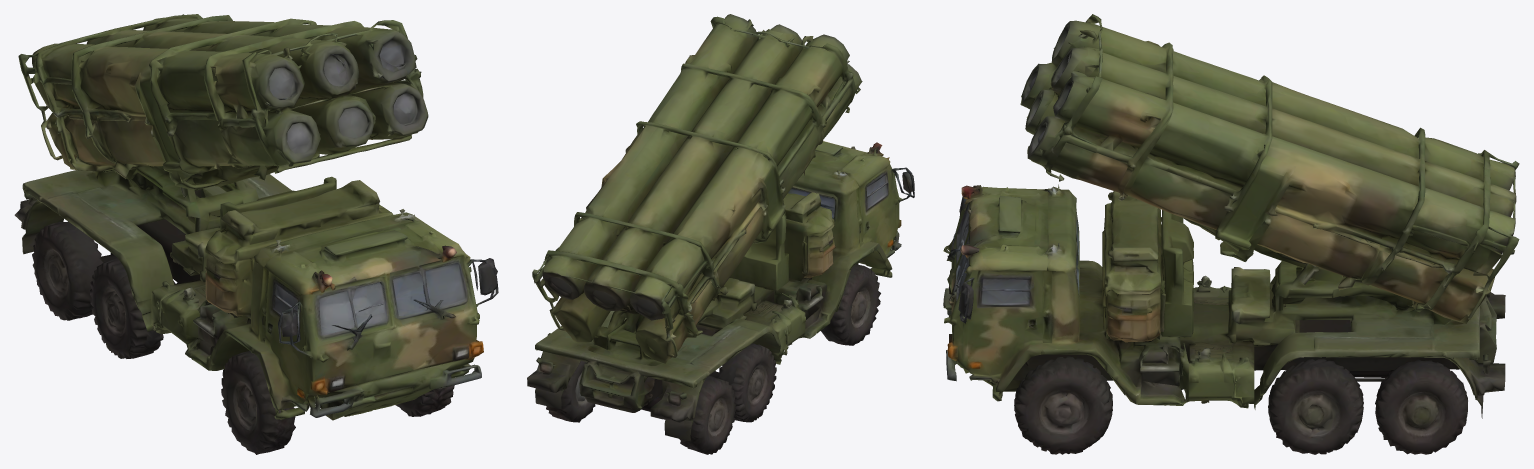
File: sam.glb
3 renders of one model, left to right at view 1: azimuth 30°, elevation 25°; view 2: azimuth 150°, elevation 25°; view 3: azimuth 270°, elevation 25°, orthographic. The views are drawn at different scales.
Visible parts, largest first — view 1: tripo_node_b8d728d7-f5e9-45c1-9c13-75fe260ffc81; view 2: tripo_node_b8d728d7-f5e9-45c1-9c13-75fe260ffc81; view 3: tripo_node_b8d728d7-f5e9-45c1-9c13-75fe260ffc81.
Part boxes in pixels (x1,y1,x2,y2): tripo_node_b8d728d7-f5e9-45c1-9c13-75fe260ffc81: (14,14,498,454); tripo_node_b8d728d7-f5e9-45c1-9c13-75fe260ffc81: (527,14,914,454); tripo_node_b8d728d7-f5e9-45c1-9c13-75fe260ffc81: (943,14,1519,454).
Size of the model in its own units: 0.419 by 0.7 by 1.
Materials: 1 (1 with a texture image).
